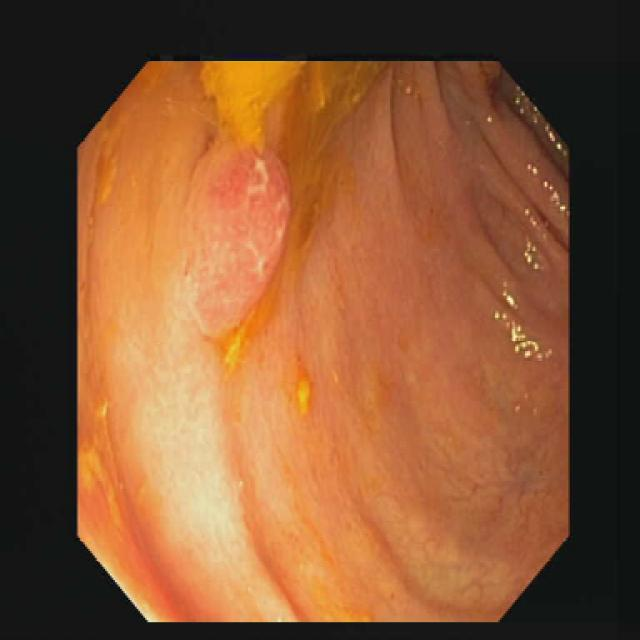tumor: (180, 147, 288, 358)
